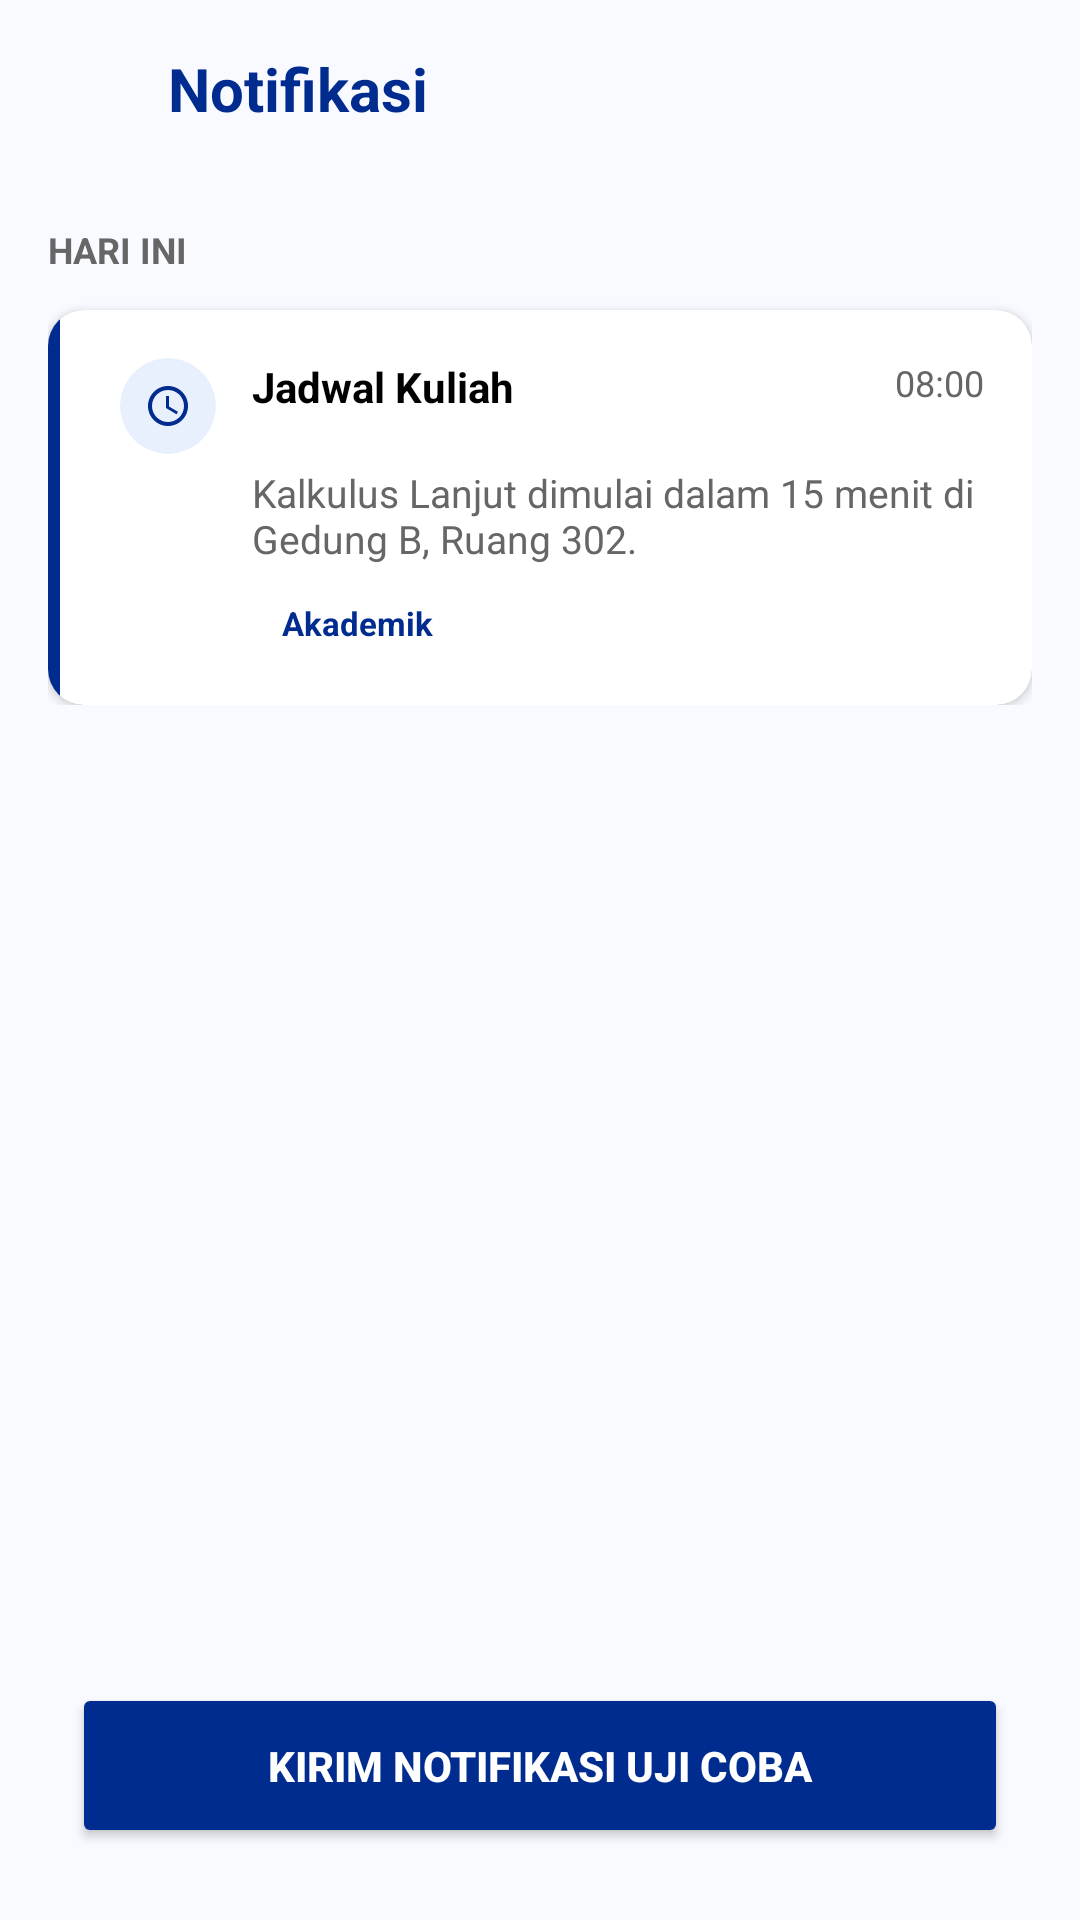

Icon click points for this 1080 x 1920 phone screenshot, format point (x, y):
clock: point (168, 406)
